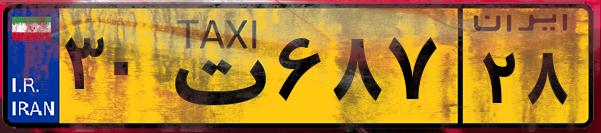0: (110, 28, 158, 98)
2: (475, 38, 525, 113)
3: (57, 26, 110, 100)
6: (270, 28, 330, 110)
7: (385, 28, 445, 110)
8: (330, 28, 385, 110), (525, 38, 570, 115)
ت: (158, 12, 270, 120)
